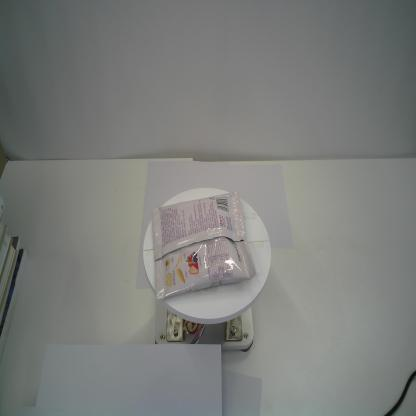Instant Drink: (152, 190, 256, 302)
